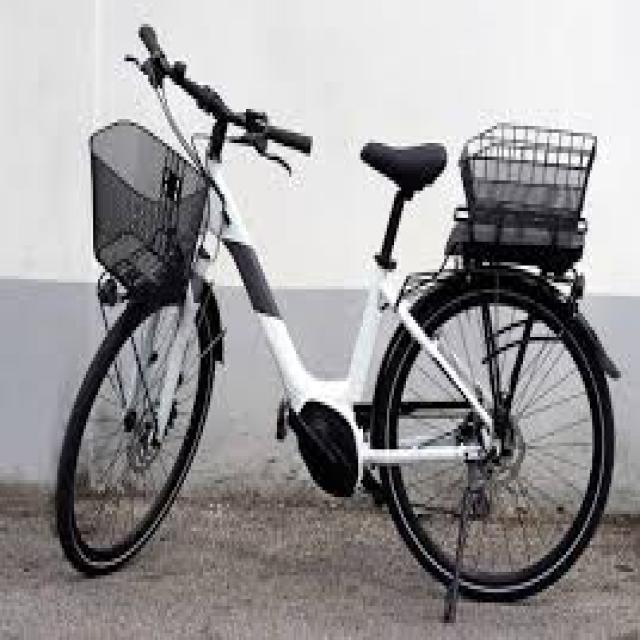basket: (88, 114, 208, 299), (462, 122, 596, 252)
